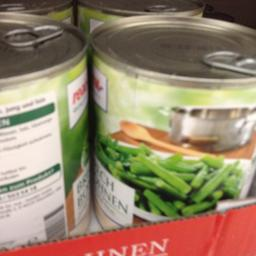beans: (92, 14, 254, 232), (0, 14, 87, 244)
